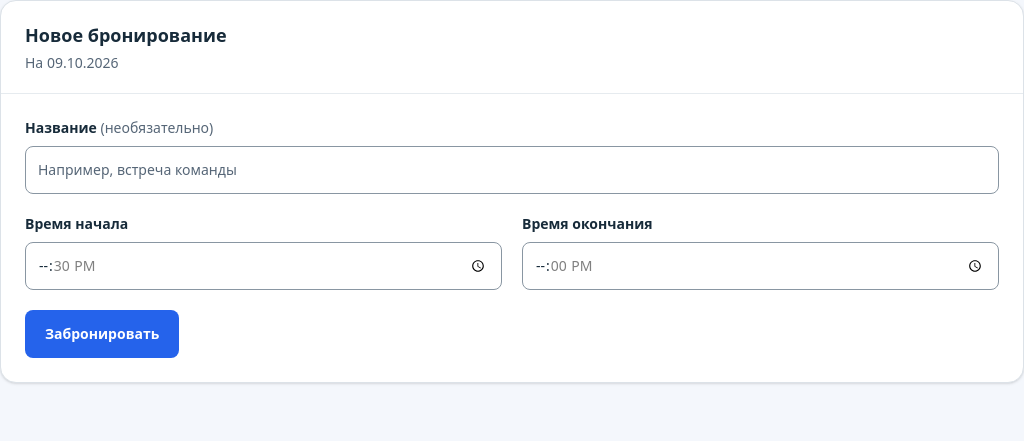
Scenario: blocks direct submission after the last start time even before a timer update
The image size is (1024, 441).
Type "17:30" into the time field labelled "Время начала".
click(264, 266); type("17:30")  # box [25,242,502,290]
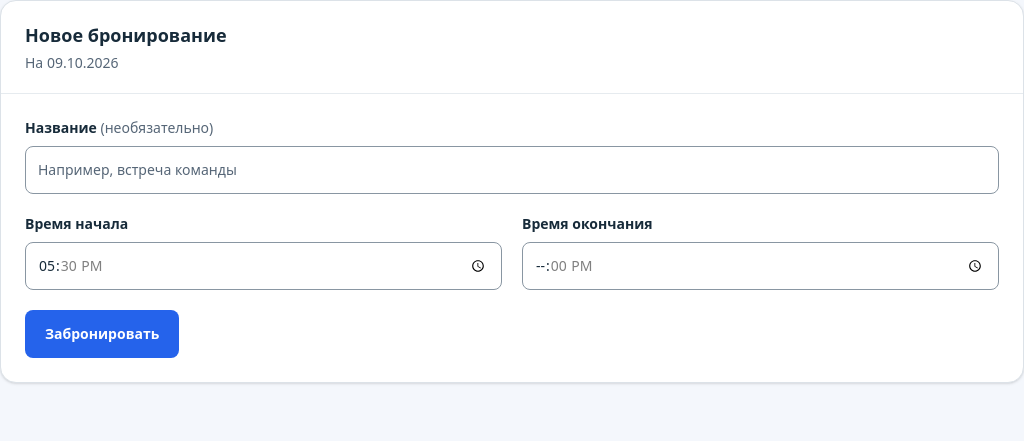
Type "18:00" into the time field labelled "Время окончания".
click(760, 266); type("18:00")  # box [522,242,999,290]
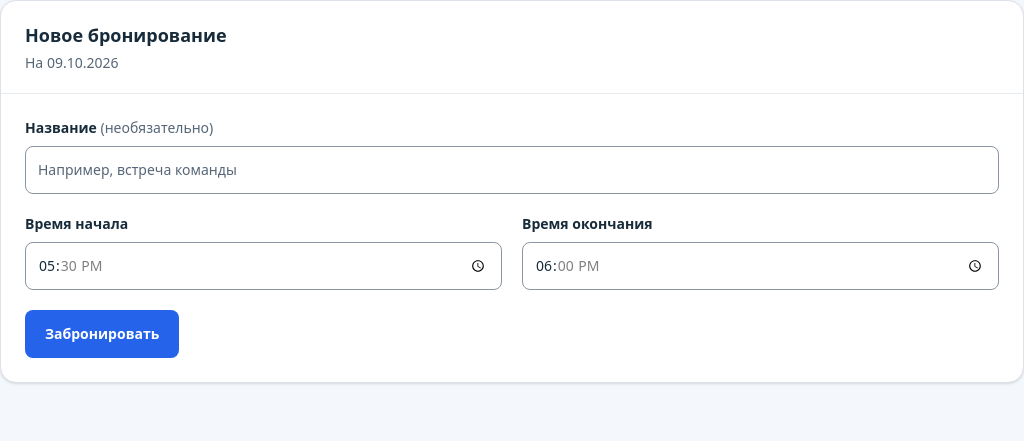
Submit the form
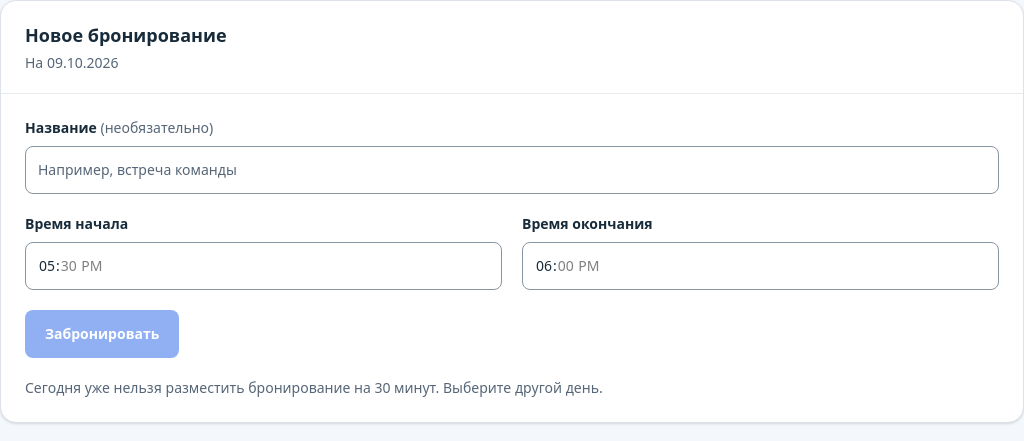
Result: the button "Забронировать" is disabled at [25,310,179,358]
Result: the text "Сегодня уже нельзя разместить бронирование на 30 минут. Выберите другой день." is shown at [25,378,603,397]
